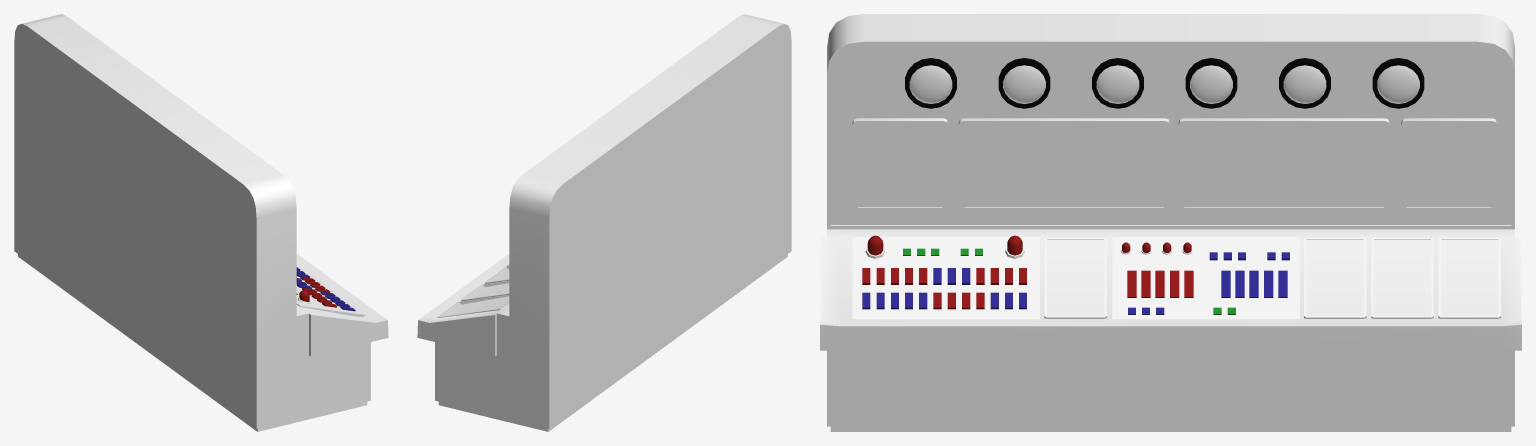
Rendered from SM_Room_hub_console2.fbx.
3 renders of one model, left to right at view 1: azimuth 30°, elevation 25°; view 2: azimuth 150°, elevation 25°; view 3: azimuth 270°, elevation 25°, orthographic. The views are drawn at different scales.
Visible parts, largest first — view 1: Plane027; view 2: Plane027; view 3: Plane027.
Boxes of the visible parts, x1=… form: Plane027: x1=14, y1=14, x2=388, y2=431; Plane027: x1=417, y1=14, x2=791, y2=431; Plane027: x1=820, y1=14, x2=1521, y2=431.
Size of the model in its own units: 170 by 561 by 300.
